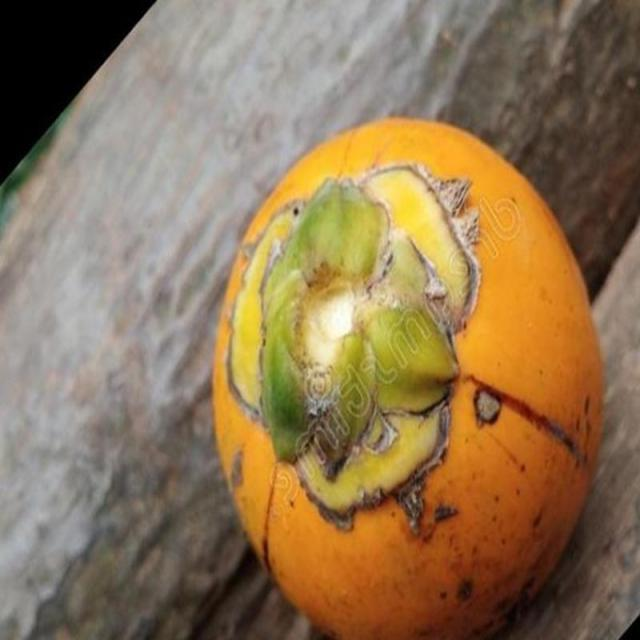good: (211, 122, 602, 639)
